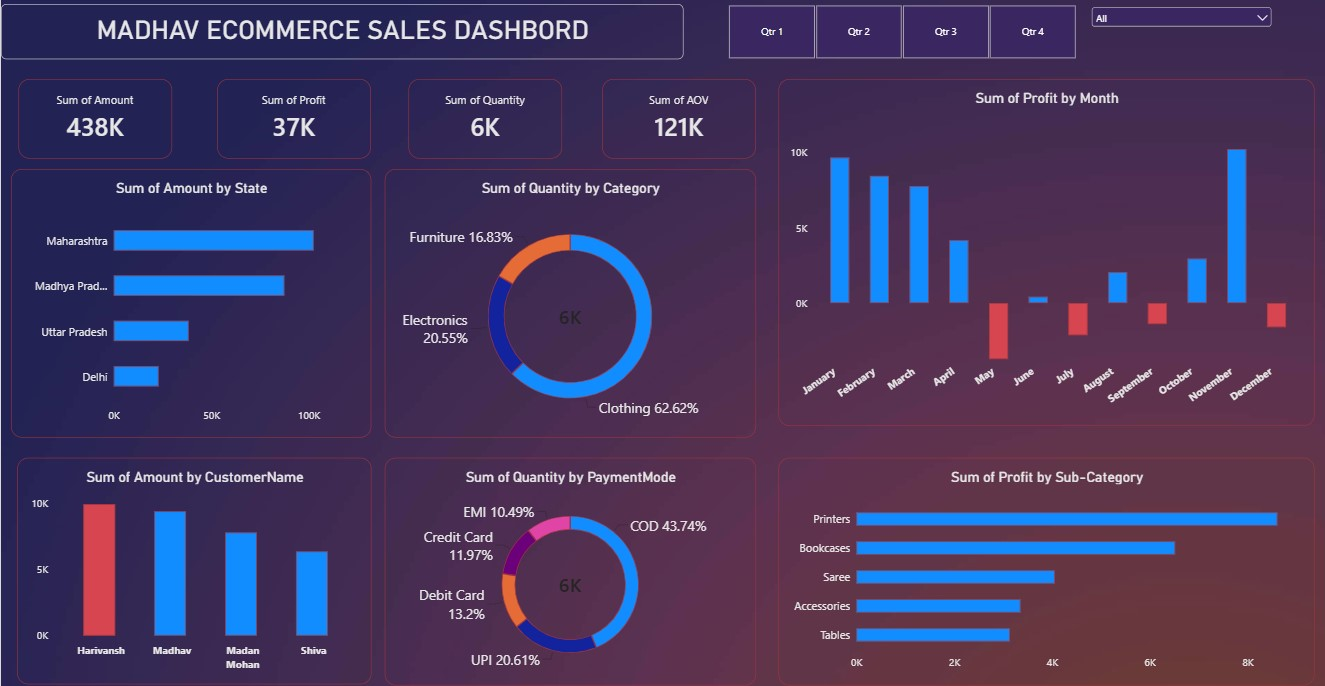

The page's visual inventory and layout, read from the dashboard file:
{"tool":"powerbi","page":{"name":"Page 1","canvas":[1920,1080],"ordinal":0},"visuals":[{"type":"textbox","title":"MADHAV ECOMMERCE SALES DASHBORD","box":[0,43.2,988,80.3],"z":0},{"type":"columnChart","fields":{"Category":["Orders.Order Date.Variation.Date Hierarchy.Month"],"Y":["Sum(Details.Profit)"]},"box":[1126.1,152.2,776.1,502.2],"z":1000},{"type":"barChart","fields":{"Category":["Details.Sub-Category"],"Y":["Sum(Details.Profit)"]},"box":[1125.6,700.3,776.3,329.4],"z":2000},{"type":"donutChart","fields":{"Category":["Details.Category"],"Y":["Sum(Details.Quantity)"]},"box":[555.7,282,537.2,389],"z":3000},{"type":"donutChart","fields":{"Category":["Details.PaymentMode"],"Y":["Sum(Details.Quantity)"]},"box":[555.7,699.8,537.2,329.3],"z":4000},{"type":"cardVisual","fields":{"Data":["Sum(Details.Amount)"]},"box":[24.7,152.3,222.3,115.3],"z":5000},{"type":"cardVisual","fields":{"Data":["Sum(Details.Profit)"]},"box":[313.1,152,222.3,115.3],"z":6000},{"type":"cardVisual","fields":{"Data":["Sum(Details.Quantity)"]},"box":[589.9,152,222.3,115.3],"z":7000},{"type":"cardVisual","fields":{"Data":["Sum(Details.AOV)"]},"box":[870.4,152,222.3,115.3],"z":8000},{"type":"barChart","fields":{"Category":["Orders.State"],"Y":["Sum(Details.Amount)"]},"box":[15.2,282.6,521.7,389.1],"z":9000},{"type":"columnChart","fields":{"Category":["Orders.CustomerName"],"Y":["Sum(Details.Amount)"]},"box":[23.9,700,513,328.3],"z":10000},{"type":"slicer","fields":{"Values":["Orders.Order Date.Variation.Date Hierarchy.Quarter"]},"box":[1032.6,43.5,541.3,80.4],"z":11000},{"type":"slicer","fields":{"Values":["Orders.State"]},"box":[1573.9,43.5,269.6,108.7],"z":11001}]}

Visuals, with their boxes on the page's 1920x1080 design canvas (x1, y1, x2, y2). These are canvas units, not pixel positions in the 1325x686 screenshot, which may show the page scaled, cropped or inside an application window:
"MADHAV ECOMMERCE SALES DASHBORD" textbox: box(0, 43, 988, 124)
columnChart - Orders.Order Date.Variation.Date Hierarchy.Month x Sum(Details.Profit): box(1126, 152, 1902, 654)
barChart - Details.Sub-Category x Sum(Details.Profit): box(1126, 700, 1902, 1030)
donutChart - Details.Category x Sum(Details.Quantity): box(556, 282, 1093, 671)
donutChart - Details.PaymentMode x Sum(Details.Quantity): box(556, 700, 1093, 1029)
cardVisual - Sum(Details.Amount): box(25, 152, 247, 268)
cardVisual - Sum(Details.Profit): box(313, 152, 535, 267)
cardVisual - Sum(Details.Quantity): box(590, 152, 812, 267)
cardVisual - Sum(Details.AOV): box(870, 152, 1093, 267)
barChart - Orders.State x Sum(Details.Amount): box(15, 283, 537, 672)
columnChart - Orders.CustomerName x Sum(Details.Amount): box(24, 700, 537, 1028)
slicer - Orders.Order Date.Variation.Date Hierarchy.Quarter: box(1033, 44, 1574, 124)
slicer - Orders.State: box(1574, 44, 1844, 152)
